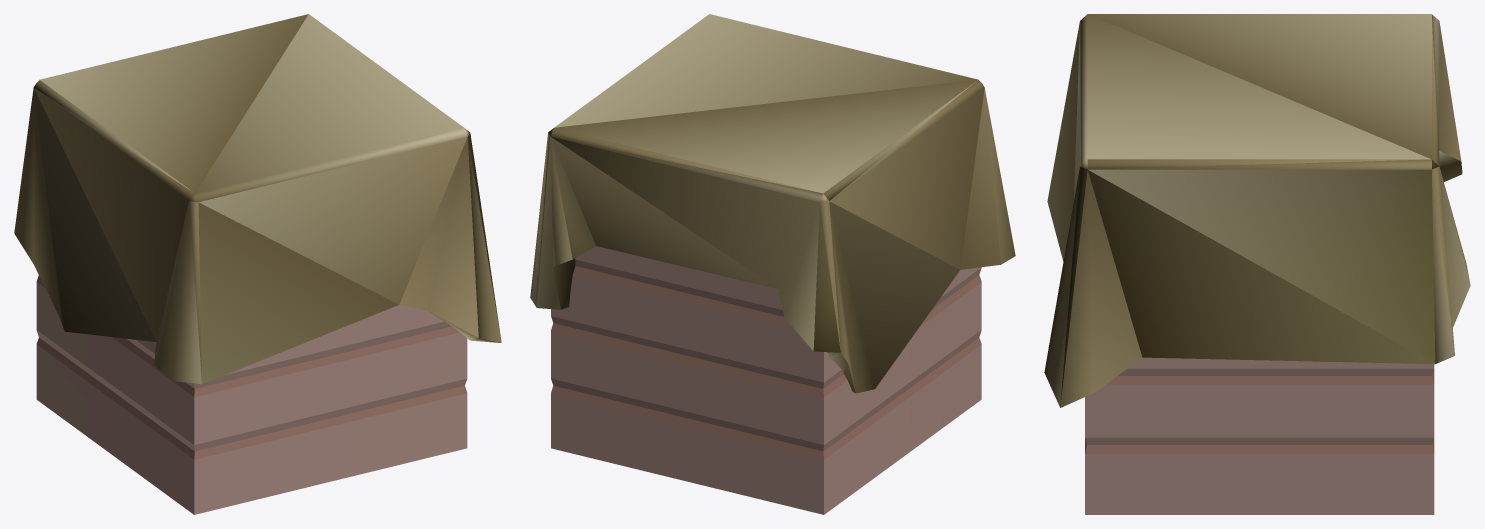
File: ds_crate.glb
The picture shows the model from 3 angles, left to right: view 1: azimuth 30°, elevation 25°; view 2: azimuth 150°, elevation 25°; view 3: azimuth 270°, elevation 25°; orthographic projection. The views are drawn at different scales.
Visible parts, largest first — view 1: ds_crate; view 2: ds_crate; view 3: ds_crate.
Boxes of the visible parts, bbox=[...] form: ds_crate: bbox=[14, 14, 501, 514]; ds_crate: bbox=[530, 14, 1015, 514]; ds_crate: bbox=[1044, 14, 1470, 514].
Bounding box in the file's own units: 1.44 × 1.32 × 1.44.
